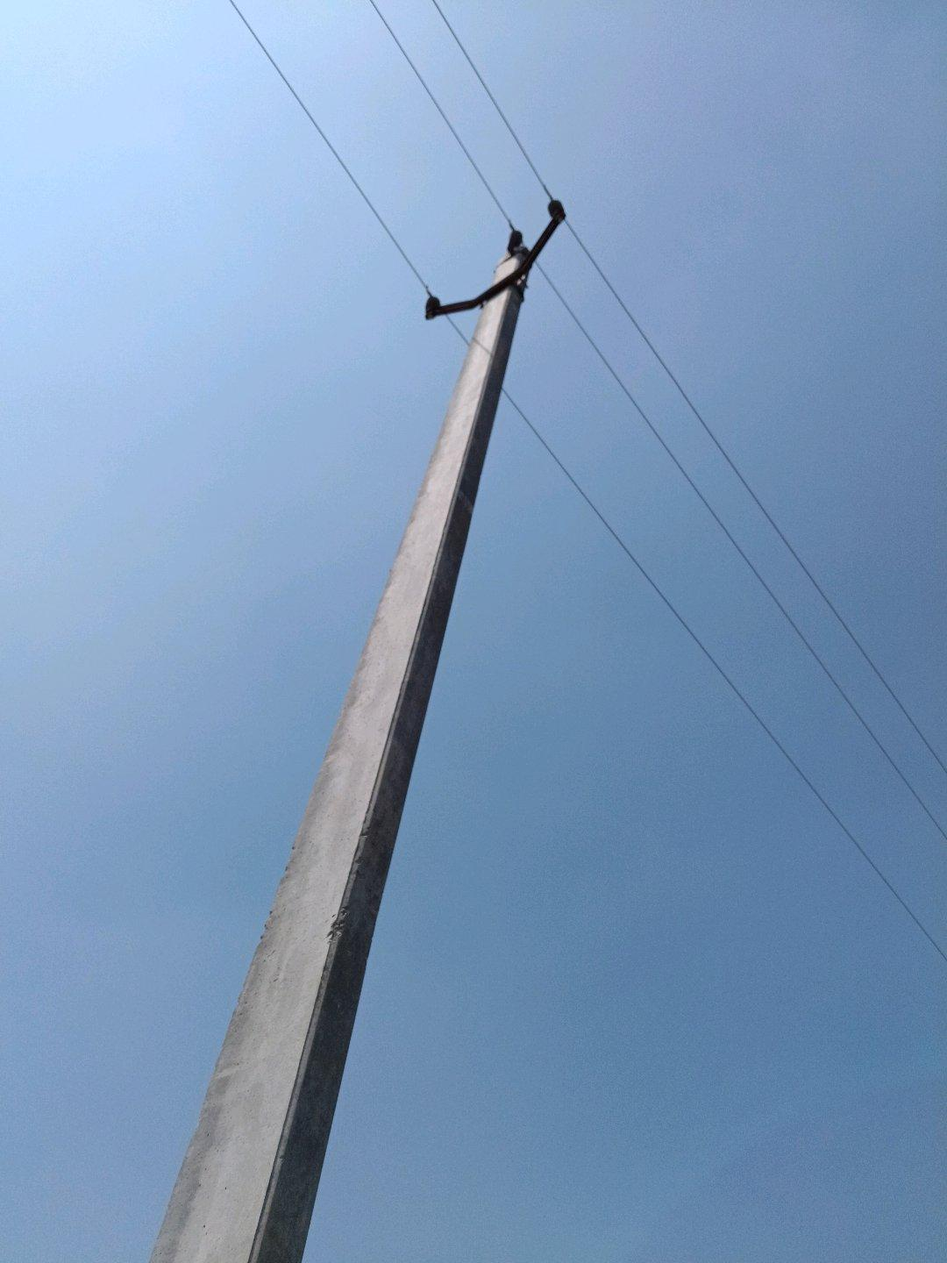{"0" "insulator", "1" "pole", "2" "crossarm", "3" "conductor", "4" "street_: (150, 199, 567, 1262), (571, 232, 573, 234)
